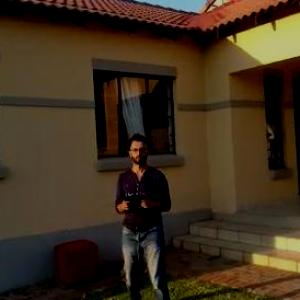follow: (110, 128, 178, 299)
